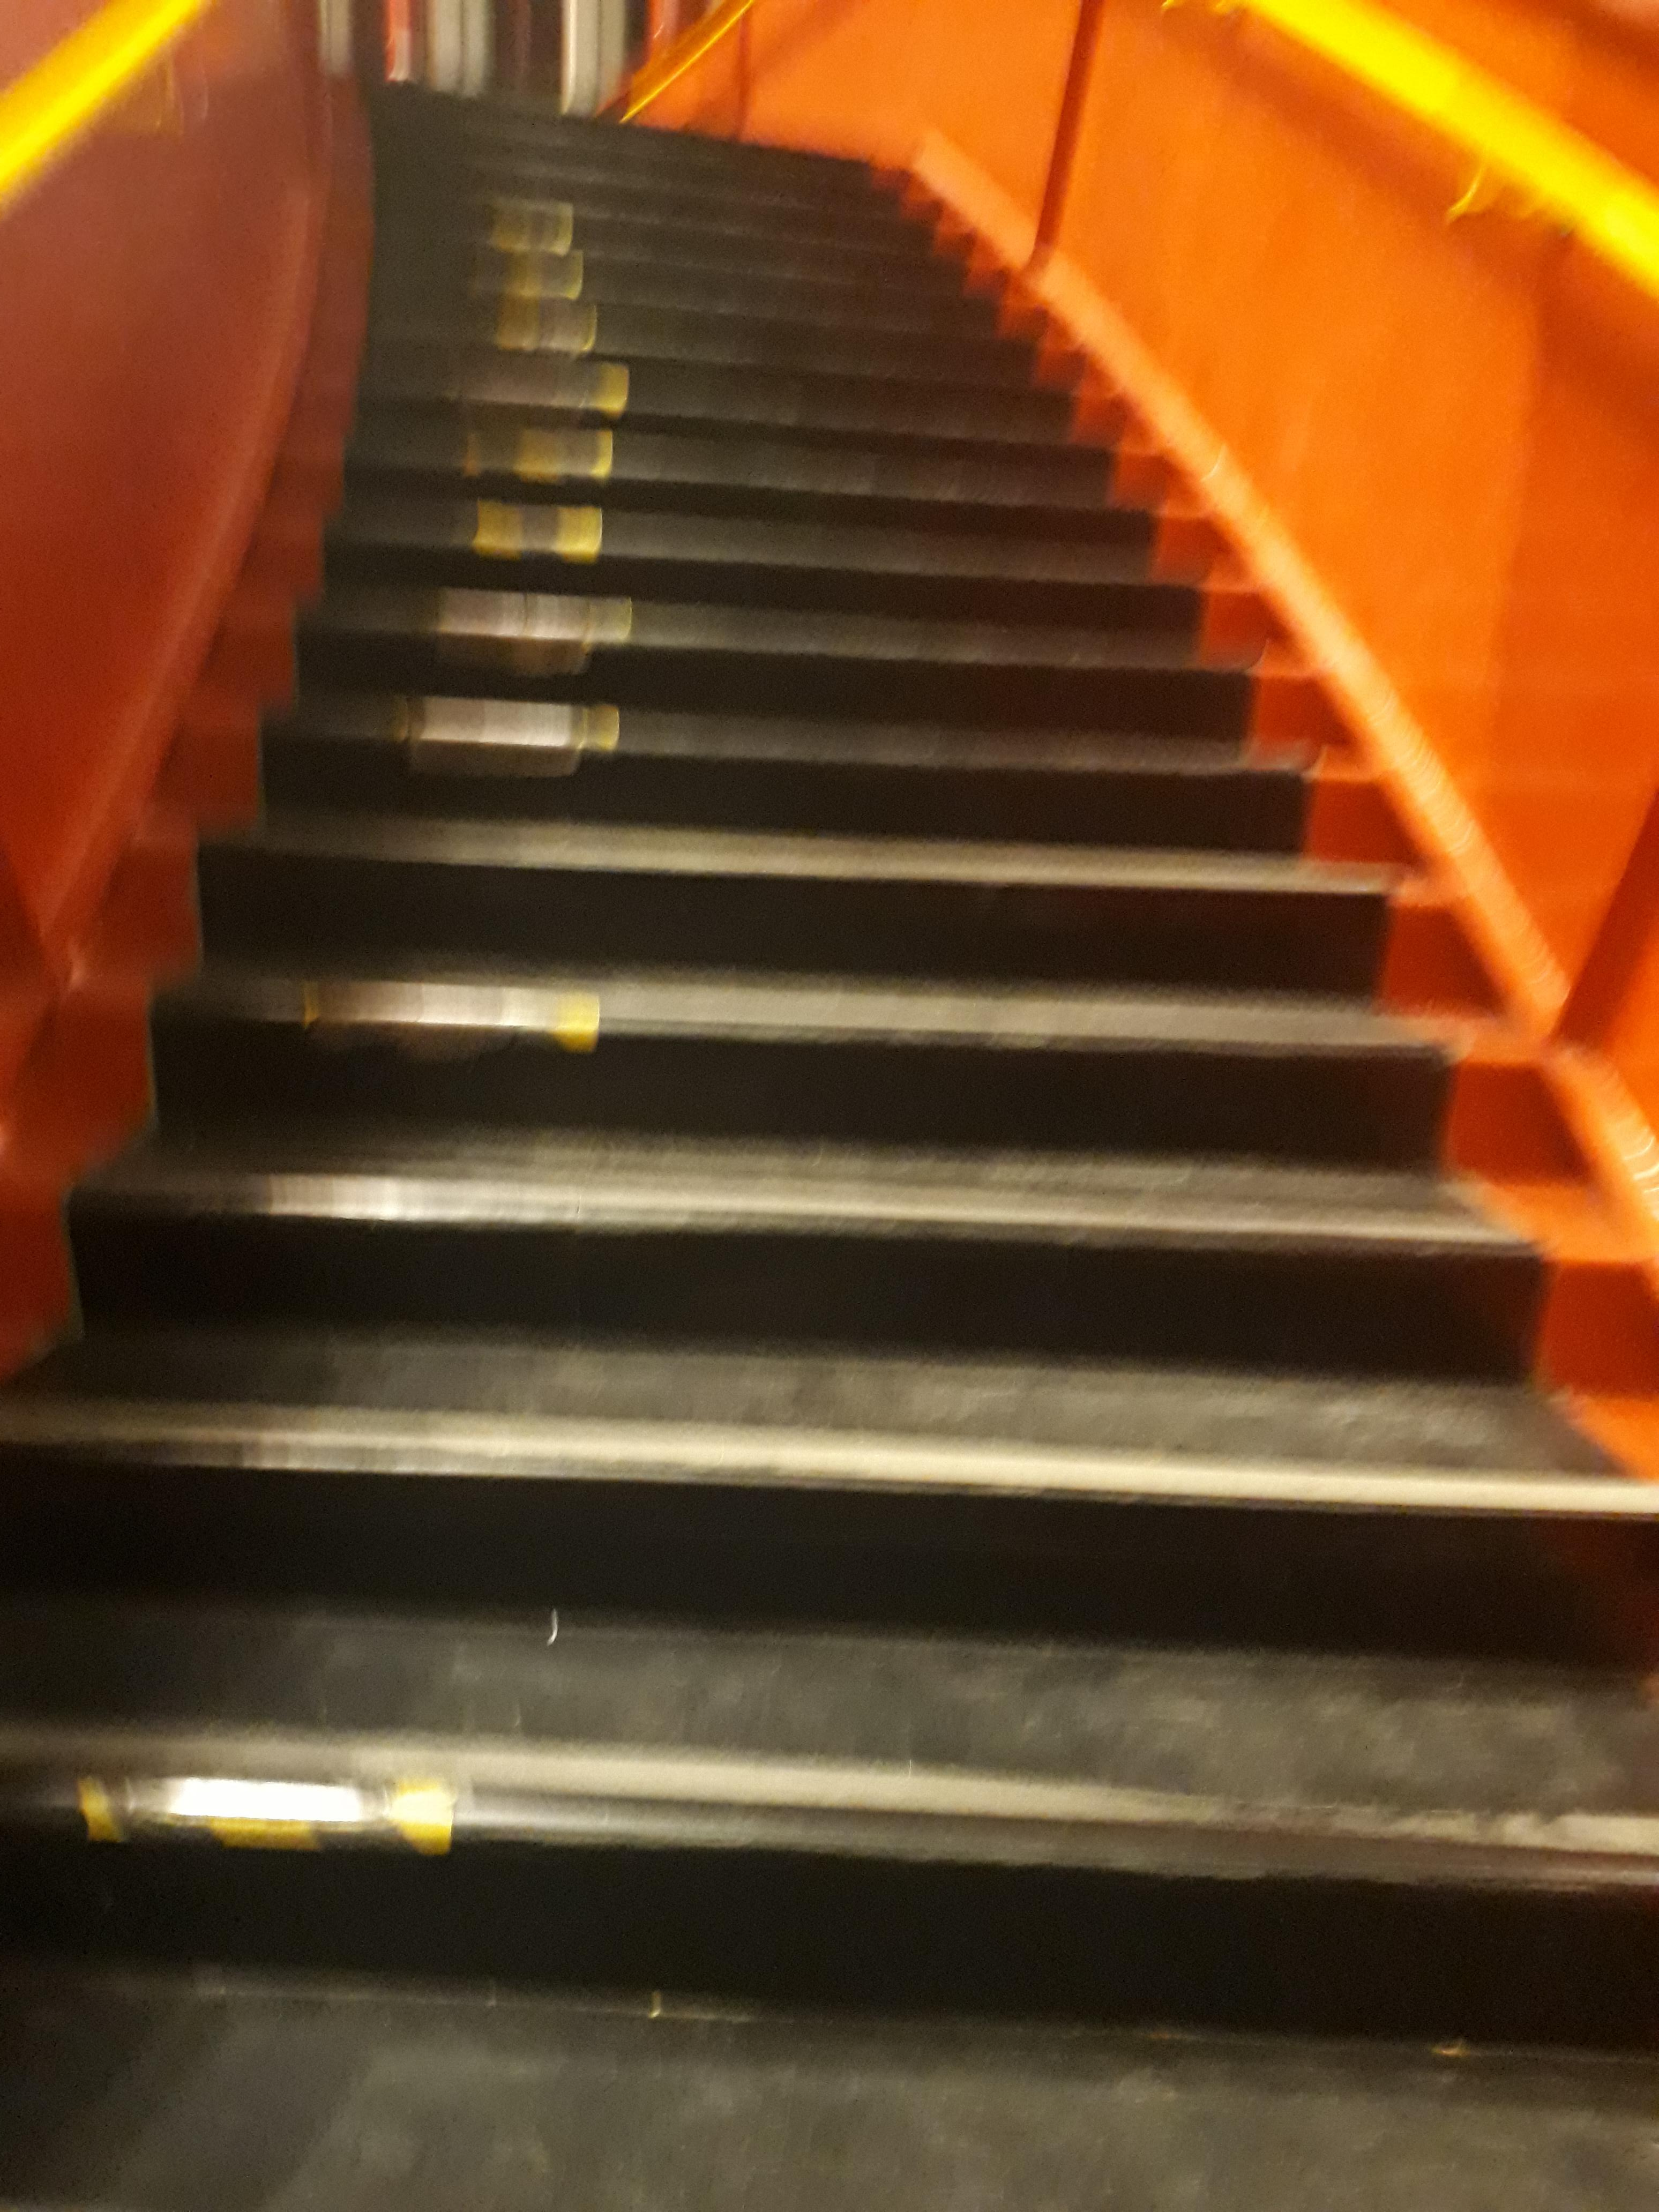stair: (0, 75, 1659, 2212)
